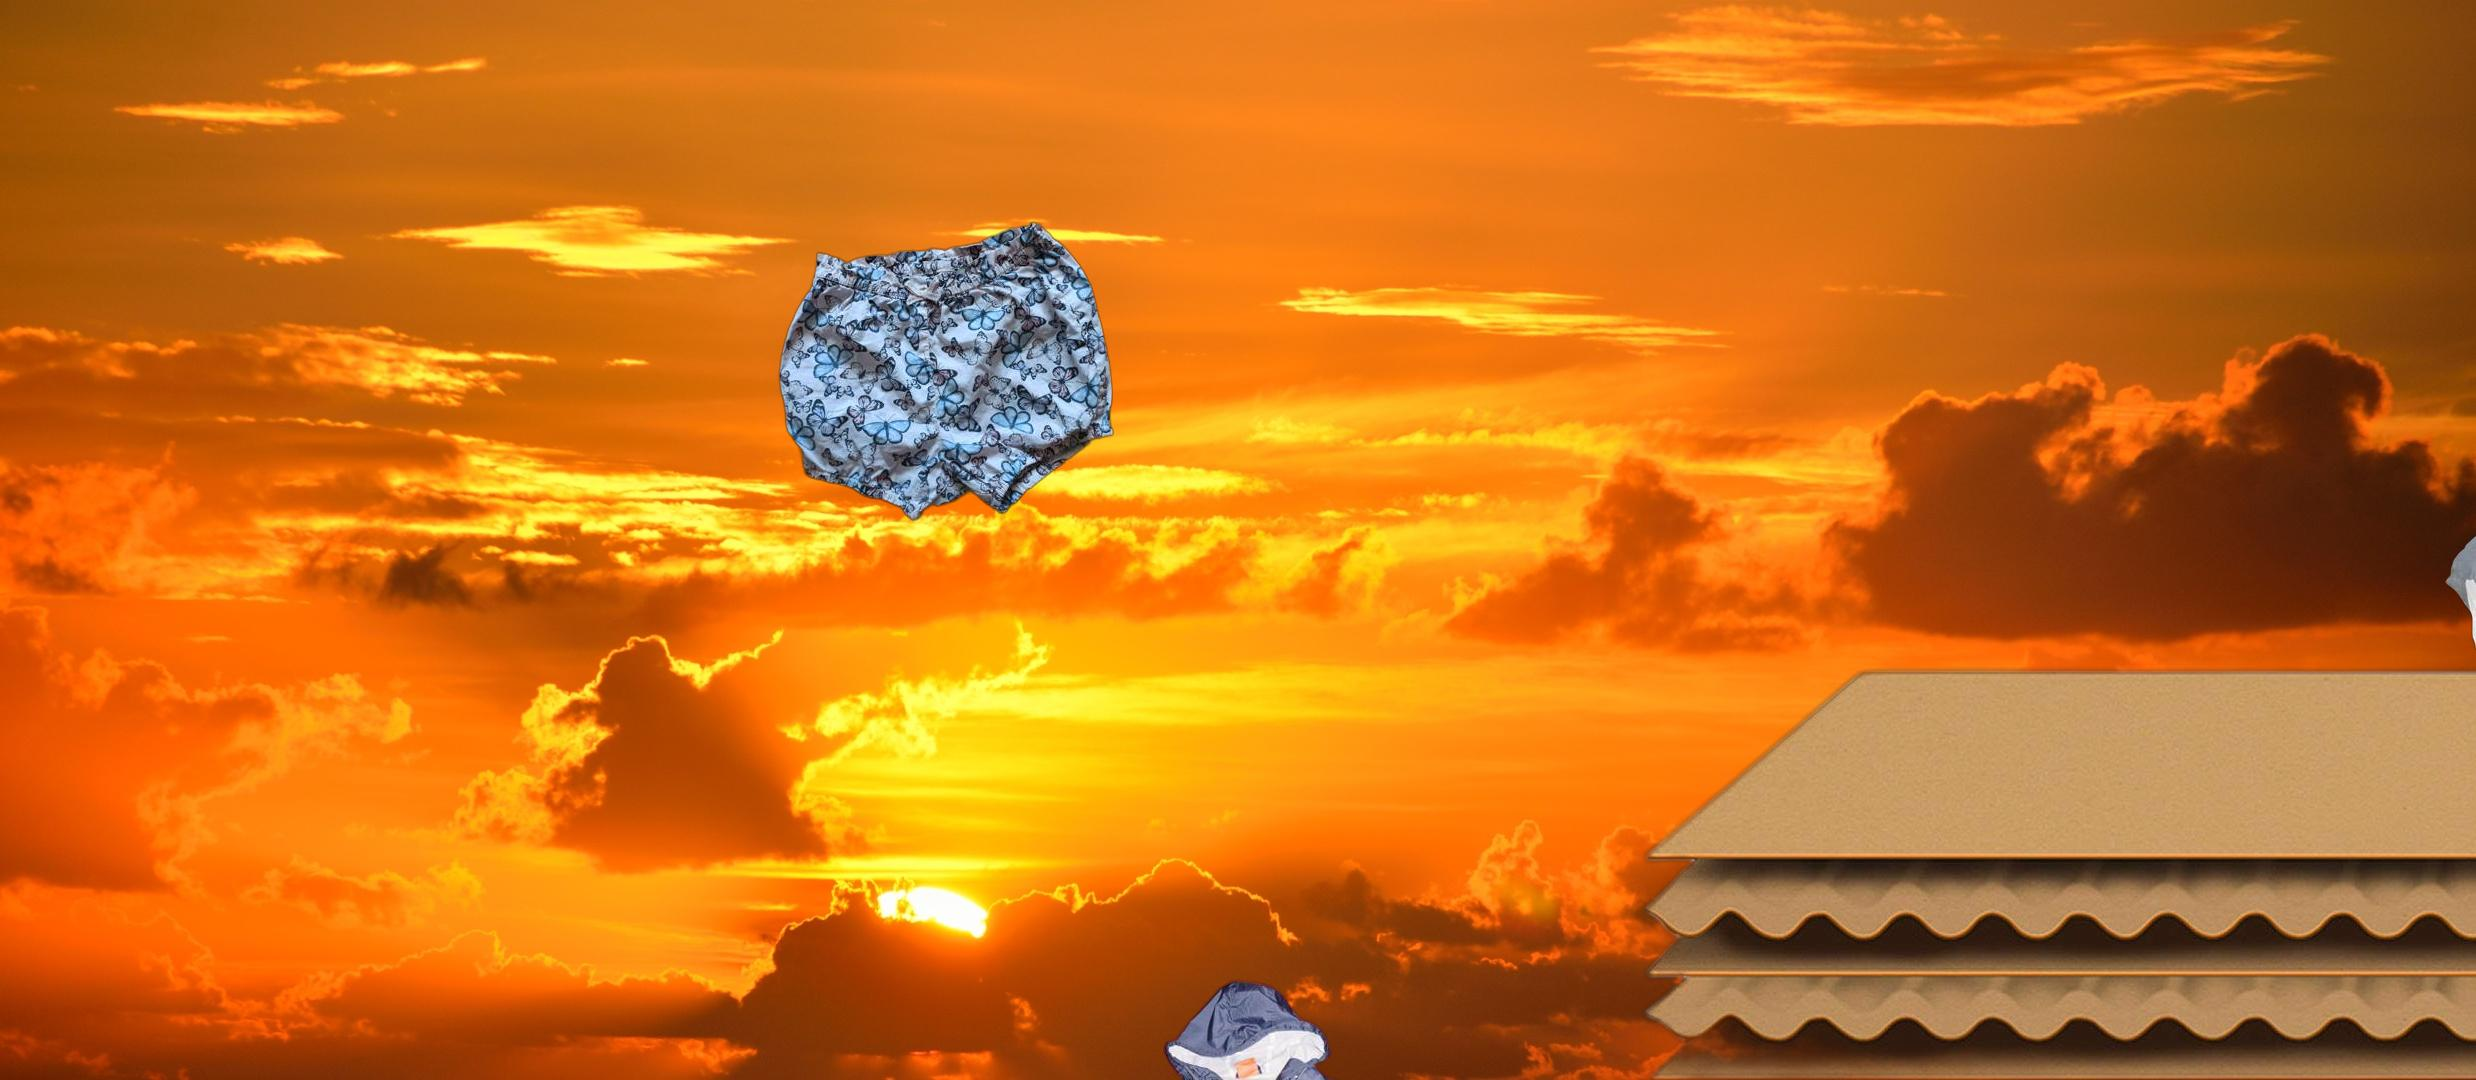clothes: (775, 216, 1116, 524), (1079, 976, 1461, 1080)
plastic-bag: (2444, 478, 2476, 728)
trashbox-cardboard: (1633, 657, 2476, 1080)
